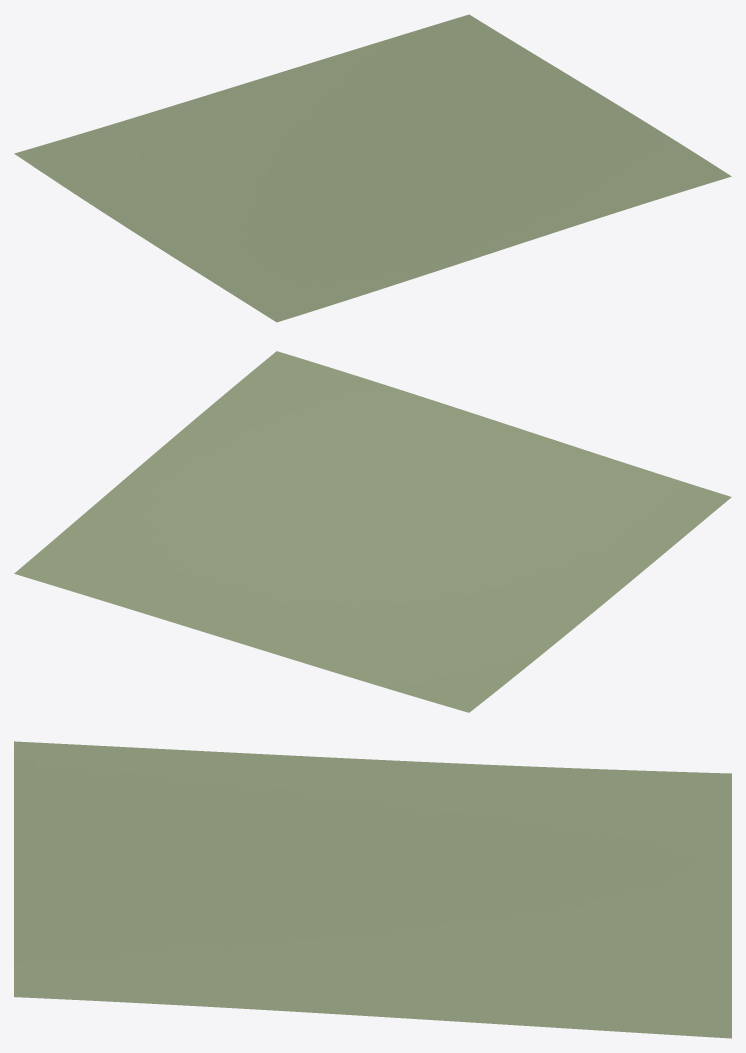
Rendered from expanse-4-24.glb.
The picture shows the model from 3 angles, top to bottom: view 1: azimuth 30°, elevation 25°; view 2: azimuth 150°, elevation 25°; view 3: azimuth 270°, elevation 25°; orthographic projection. The views are drawn at different scales.
Parts seen in each view (by area): view 1: expanse-4-24; view 2: expanse-4-24; view 3: expanse-4-24.
Part boxes in pixels (x1=…): expanse-4-24: x1=14, y1=14, x2=731, y2=322; expanse-4-24: x1=14, y1=351, x2=731, y2=712; expanse-4-24: x1=14, y1=741, x2=731, y2=1038.
Bounding box in the file's own units: 256 × 31.4 × 256.
